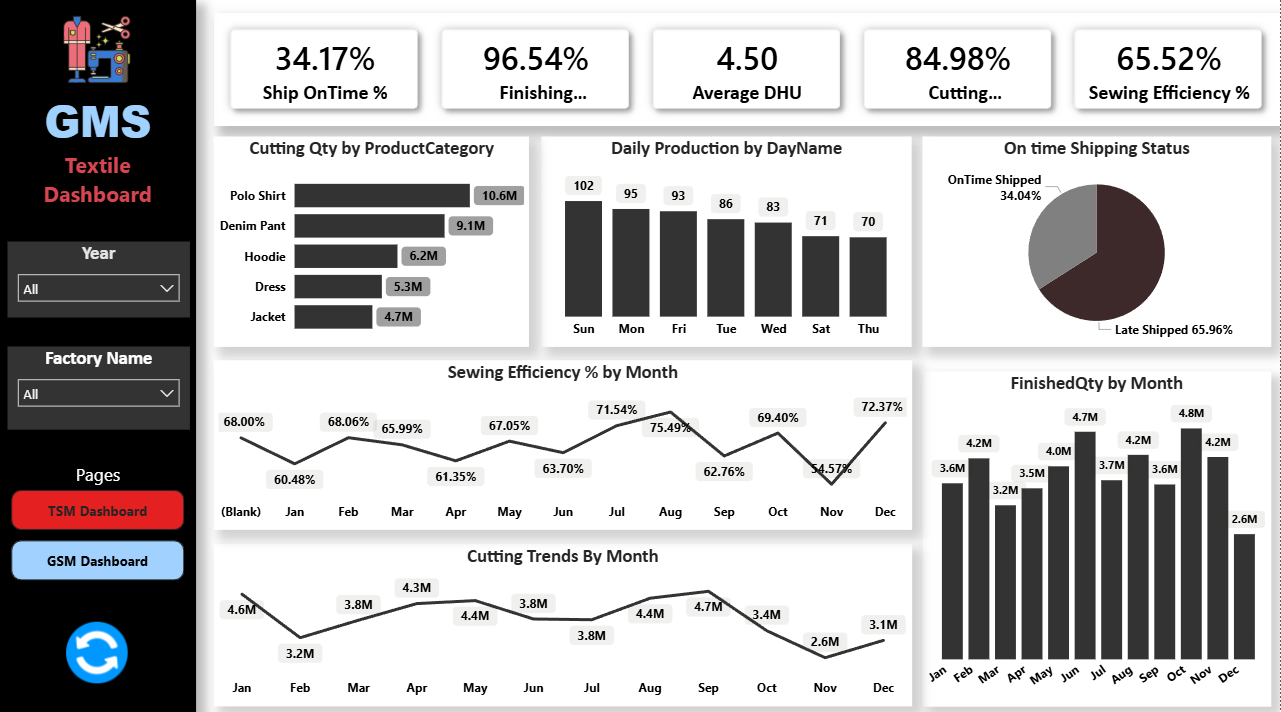

The dashboard page shown, as its layout file describes it:
{"tool":"powerbi","page":{"name":"GSM Dashboard","canvas":[1280,720],"ordinal":1},"visuals":[{"type":"cardVisual","fields":{"Data":["@measure.On Time %","@measure.Finishing Achievement (Packed %)","@measure.Average DHU","@measure.Cutting Achievement (%)","@measure.Sewing Efficiency %"]},"box":[214,13.5,1066.3,113.7],"z":0},{"type":"columnChart","title":"FinishedQty by Month","fields":{"Category":["dim_date.MonthName"],"Y":["Sum(fact_finishing_daily.FinishedQty)"]},"box":[922,373,348.5,335.1],"z":1000},{"type":"columnChart","title":"Daily Production by DayName","fields":{"Category":["dim_date.DayName"],"Y":["CountNonNull(fact_shipment.ShipmentID)"]},"box":[541.7,137,370.5,210.3],"z":2000},{"type":"pieChart","title":"On time Shipping Status","fields":{"Y":["CountNonNull(fact_shipment.Shipping Accurecy)","select"],"Category":["fact_shipment.Shipping Accurecy"]},"box":[922,137,348.5,210.3],"z":3000},{"type":"textbox","box":[0,0,196,720.2],"z":4000},{"type":"lineChart","title":"Cutting Trends By Month","fields":{"Category":["dim_date.MonthName"],"Y":["Sum(fact_cutting_daily.CutQty)"]},"box":[214,545.4,698.2,162.6],"z":5000},{"type":"barChart","title":"Cutting Qty by ProductCategory","fields":{"Category":["dim_style.ProductCategory"],"Y":["Sum(fact_cutting_daily.CutQty)"]},"box":[214,137,315.5,210.3],"z":6000},{"type":"slicer","title":"Year","fields":{"Values":["dim_date.Year"]},"box":[7.3,242.1,182.2,75.8],"z":7000},{"type":"lineChart","title":"Sewing Efficiency % by Month","fields":{"Category":["dim_date.MonthName"],"Y":["@measure.Sewing Efficiency %"]},"box":[214,360.7,698.2,170],"z":8000},{"type":"pageNavigator","title":"Pages","box":[11,463.5,173.6,118.6],"z":9000},{"type":"actionButton","box":[52.6,618.8,89.3,69.7],"z":10000},{"type":"slicer","title":"Factory Name","fields":{"Values":["dim_factory.FactoryName"]},"box":[7.3,347.3,182.2,83.2],"z":11000},{"type":"image","box":[52.6,12.2,89.3,75.8],"z":11001}]}

Visuals, with their boxes in screenshot pixels (x1, y1, x2, y2), scaled from the page's 1280x720 canvas onto the 1281x712 screenshot:
cardVisual - @measure.On Time % x @measure.Finishing Achievement (Packed %): (214, 13, 1280, 126)
"FinishedQty by Month" columnChart: (923, 369, 1271, 700)
"Daily Production by DayName" columnChart: (542, 135, 913, 343)
"On time Shipping Status" pieChart: (923, 135, 1271, 343)
textbox: (0, 0, 196, 711)
"Cutting Trends By Month" lineChart: (214, 539, 913, 700)
"Cutting Qty by ProductCategory" barChart: (214, 135, 530, 343)
"Year" slicer: (7, 239, 190, 314)
"Sewing Efficiency % by Month" lineChart: (214, 357, 913, 525)
"Pages" pageNavigator: (11, 458, 185, 576)
actionButton: (53, 612, 142, 681)
"Factory Name" slicer: (7, 343, 190, 426)
image: (53, 12, 142, 87)
